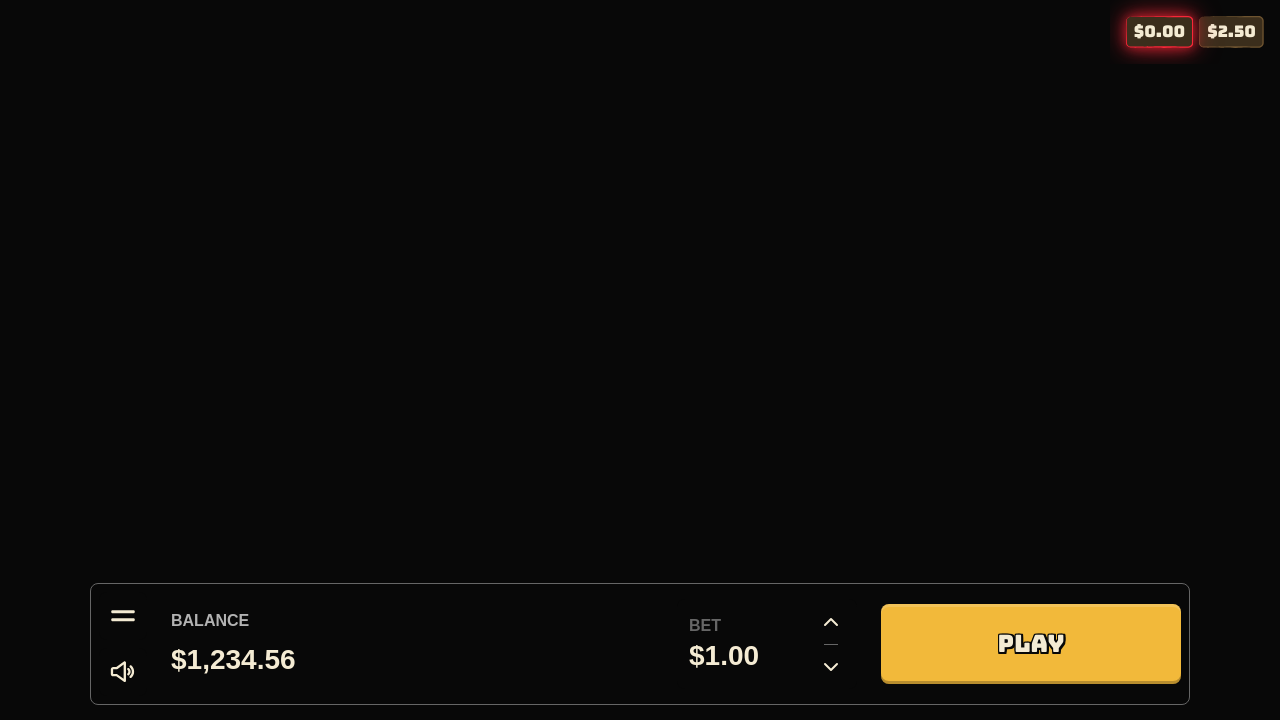
UserInterface › the audio button opens the volume popover, and Escape closes it
This screenshot has width=1280, height=720.
Step 1. Click the button named "Mute" → (123, 672), box left=99, top=648, right=147, bottom=696
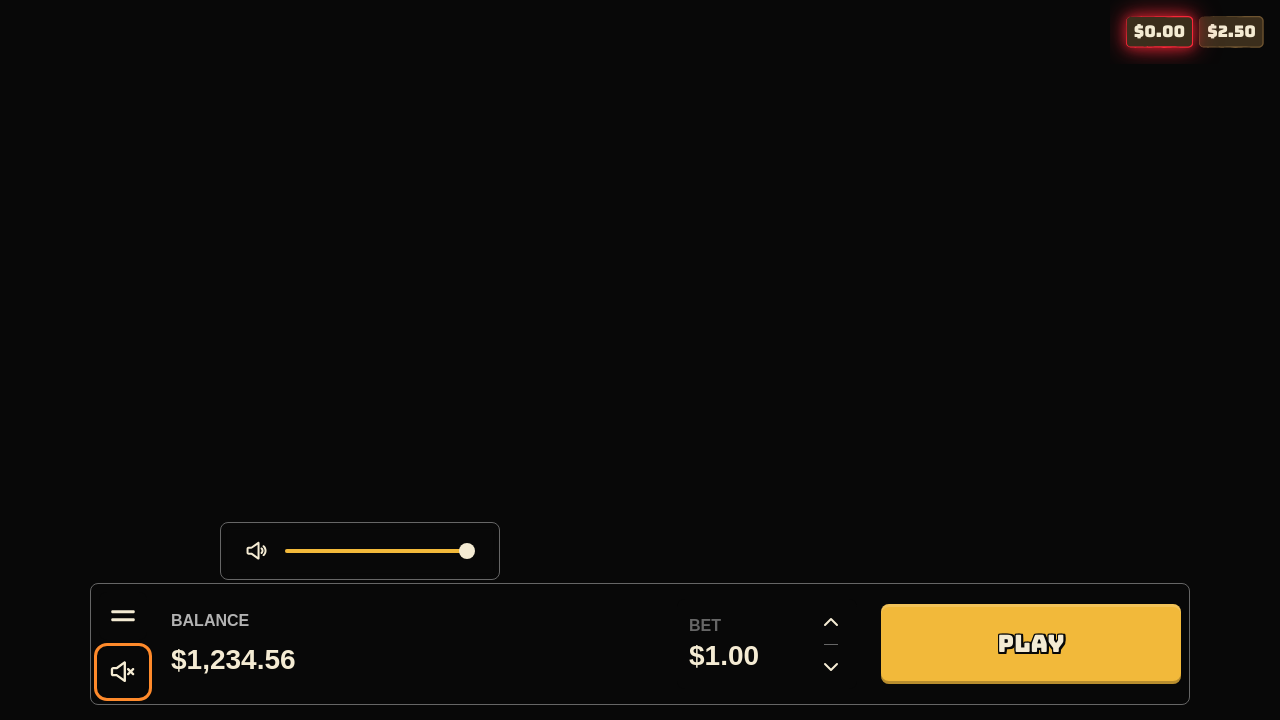
Now the dialog named "Volume" is shown, box left=220, top=522, right=500, bottom=580
Step 2. Press Escape
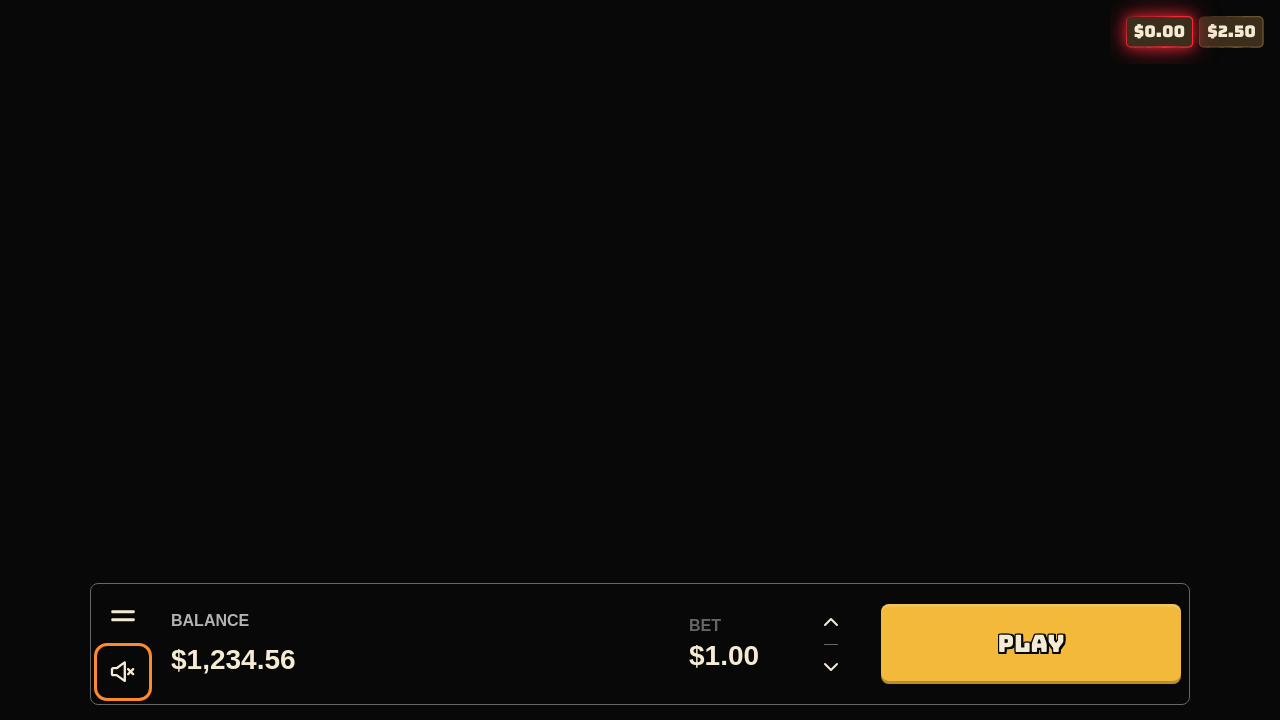
Now the dialog "Volume" is gone
